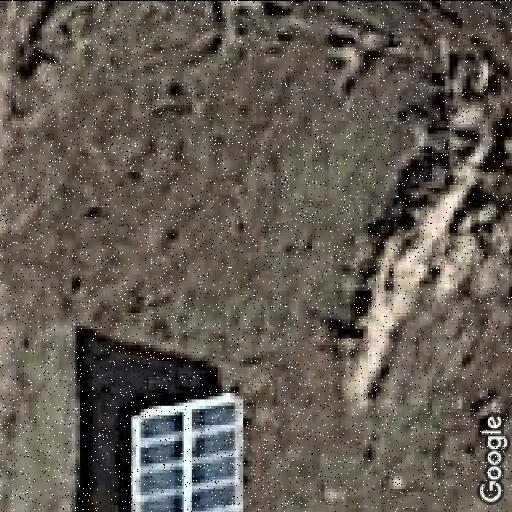solar-panel: (130, 381, 244, 512)
